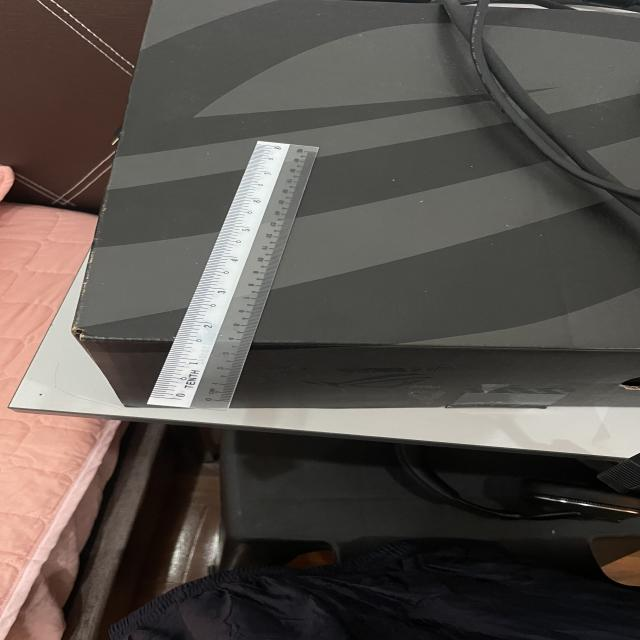ruler: (147, 141, 318, 410)
